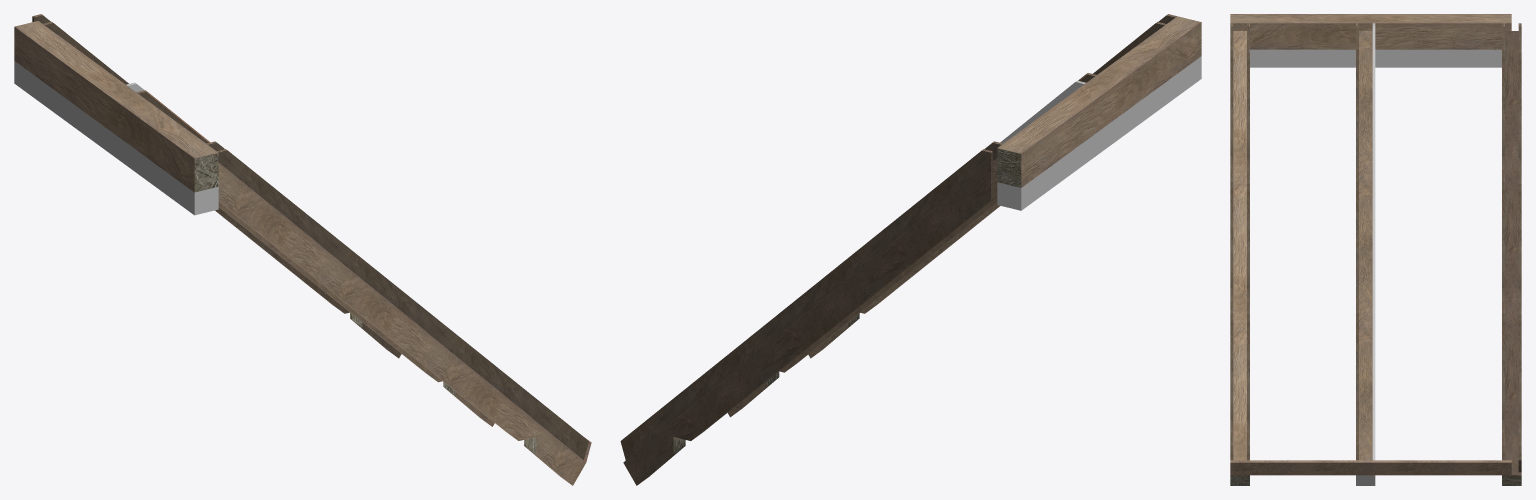
Rendered from RafterCapEndAOppisite.fbx.
The picture shows the model from 3 angles, left to right: view 1: azimuth 30°, elevation 25°; view 2: azimuth 150°, elevation 25°; view 3: azimuth 270°, elevation 25°; orthographic projection. The views are drawn at different scales.
Visible parts, largest first — view 1: RafterCapEndAOppisite; view 2: RafterCapEndAOppisite; view 3: RafterCapEndAOppisite.
Boxes of the visible parts, x1,y1,x2,y2 form: RafterCapEndAOppisite: (14, 14, 591, 485); RafterCapEndAOppisite: (620, 14, 1201, 485); RafterCapEndAOppisite: (1230, 14, 1521, 485).
Bounding box in the file's own units: 495 × 500 × 402.
